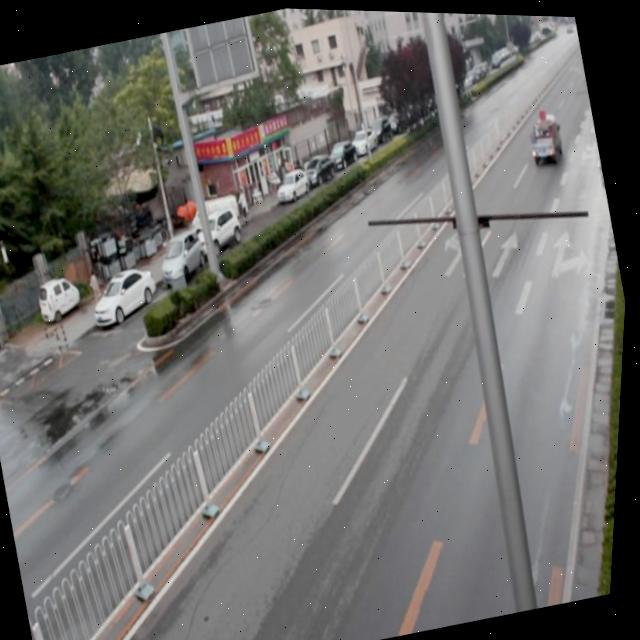bus: (522, 104, 564, 162)
